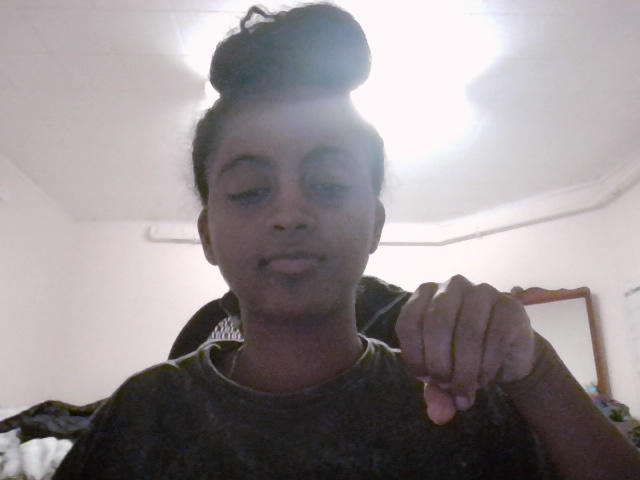Yes: (402, 265, 544, 422)
